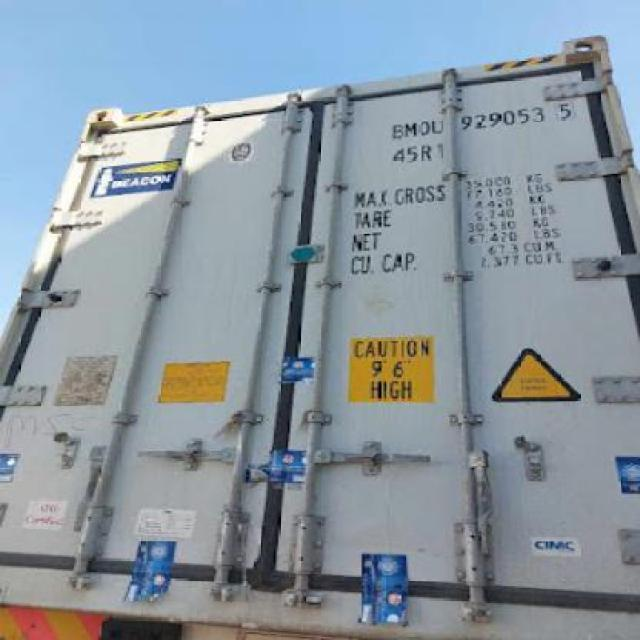ISO: (392, 144, 451, 164)
container_number: (382, 102, 580, 140)
